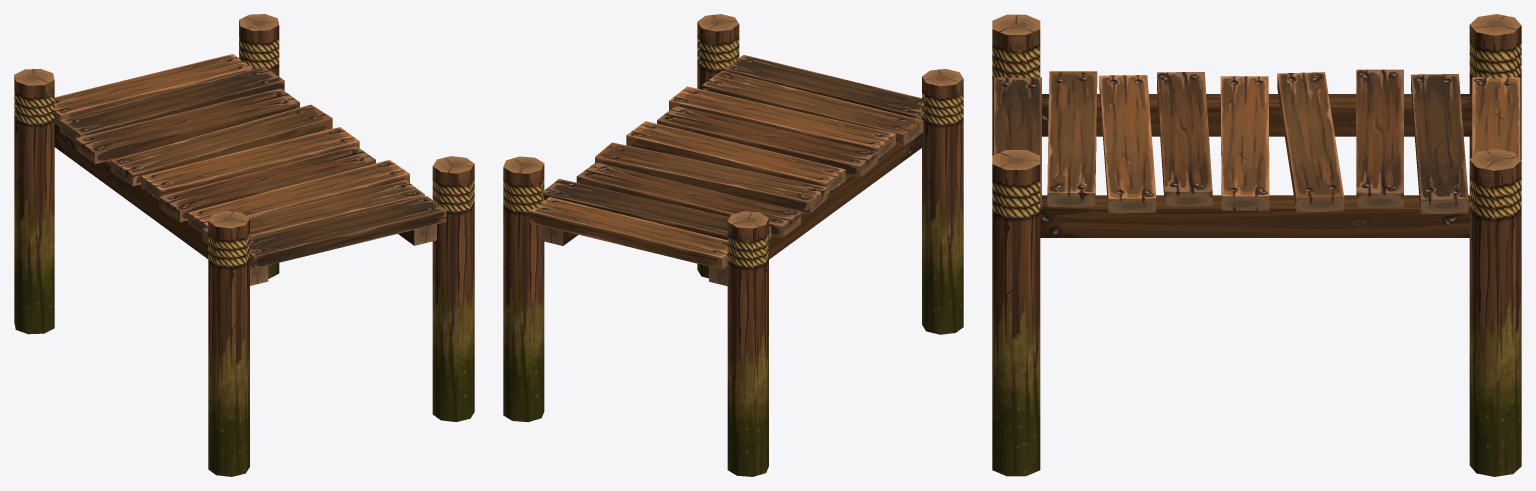
The model's file is pier_end_A.fbx.
3 views of the same model, side by side, from view 1: azimuth 30°, elevation 25°; view 2: azimuth 150°, elevation 25°; view 3: azimuth 270°, elevation 25° (orthographic). The views are drawn at different scales.
Parts seen in each view (by area): view 1: pier_end_A; view 2: pier_end_A; view 3: pier_end_A.
Boxes of the visible parts, bbox=[...] form: pier_end_A: bbox=[14, 14, 474, 476]; pier_end_A: bbox=[503, 14, 963, 476]; pier_end_A: bbox=[992, 14, 1521, 476].
Bounding box in the file's own units: 232 × 211 × 331.
